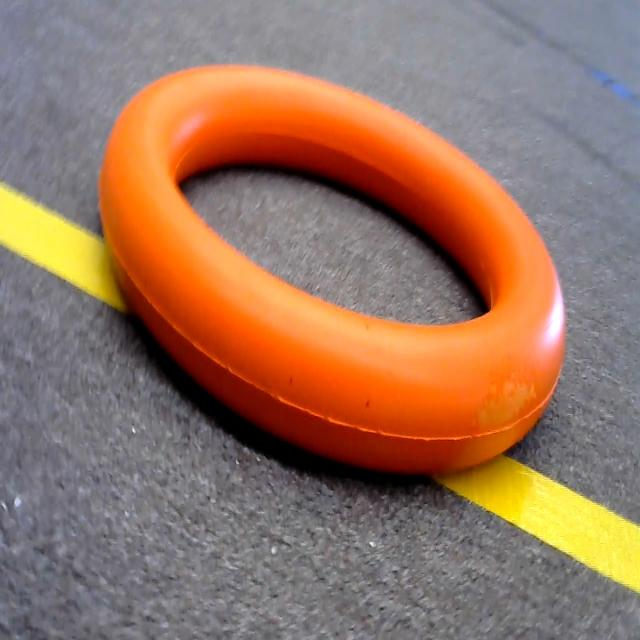note: (89, 50, 576, 485)
